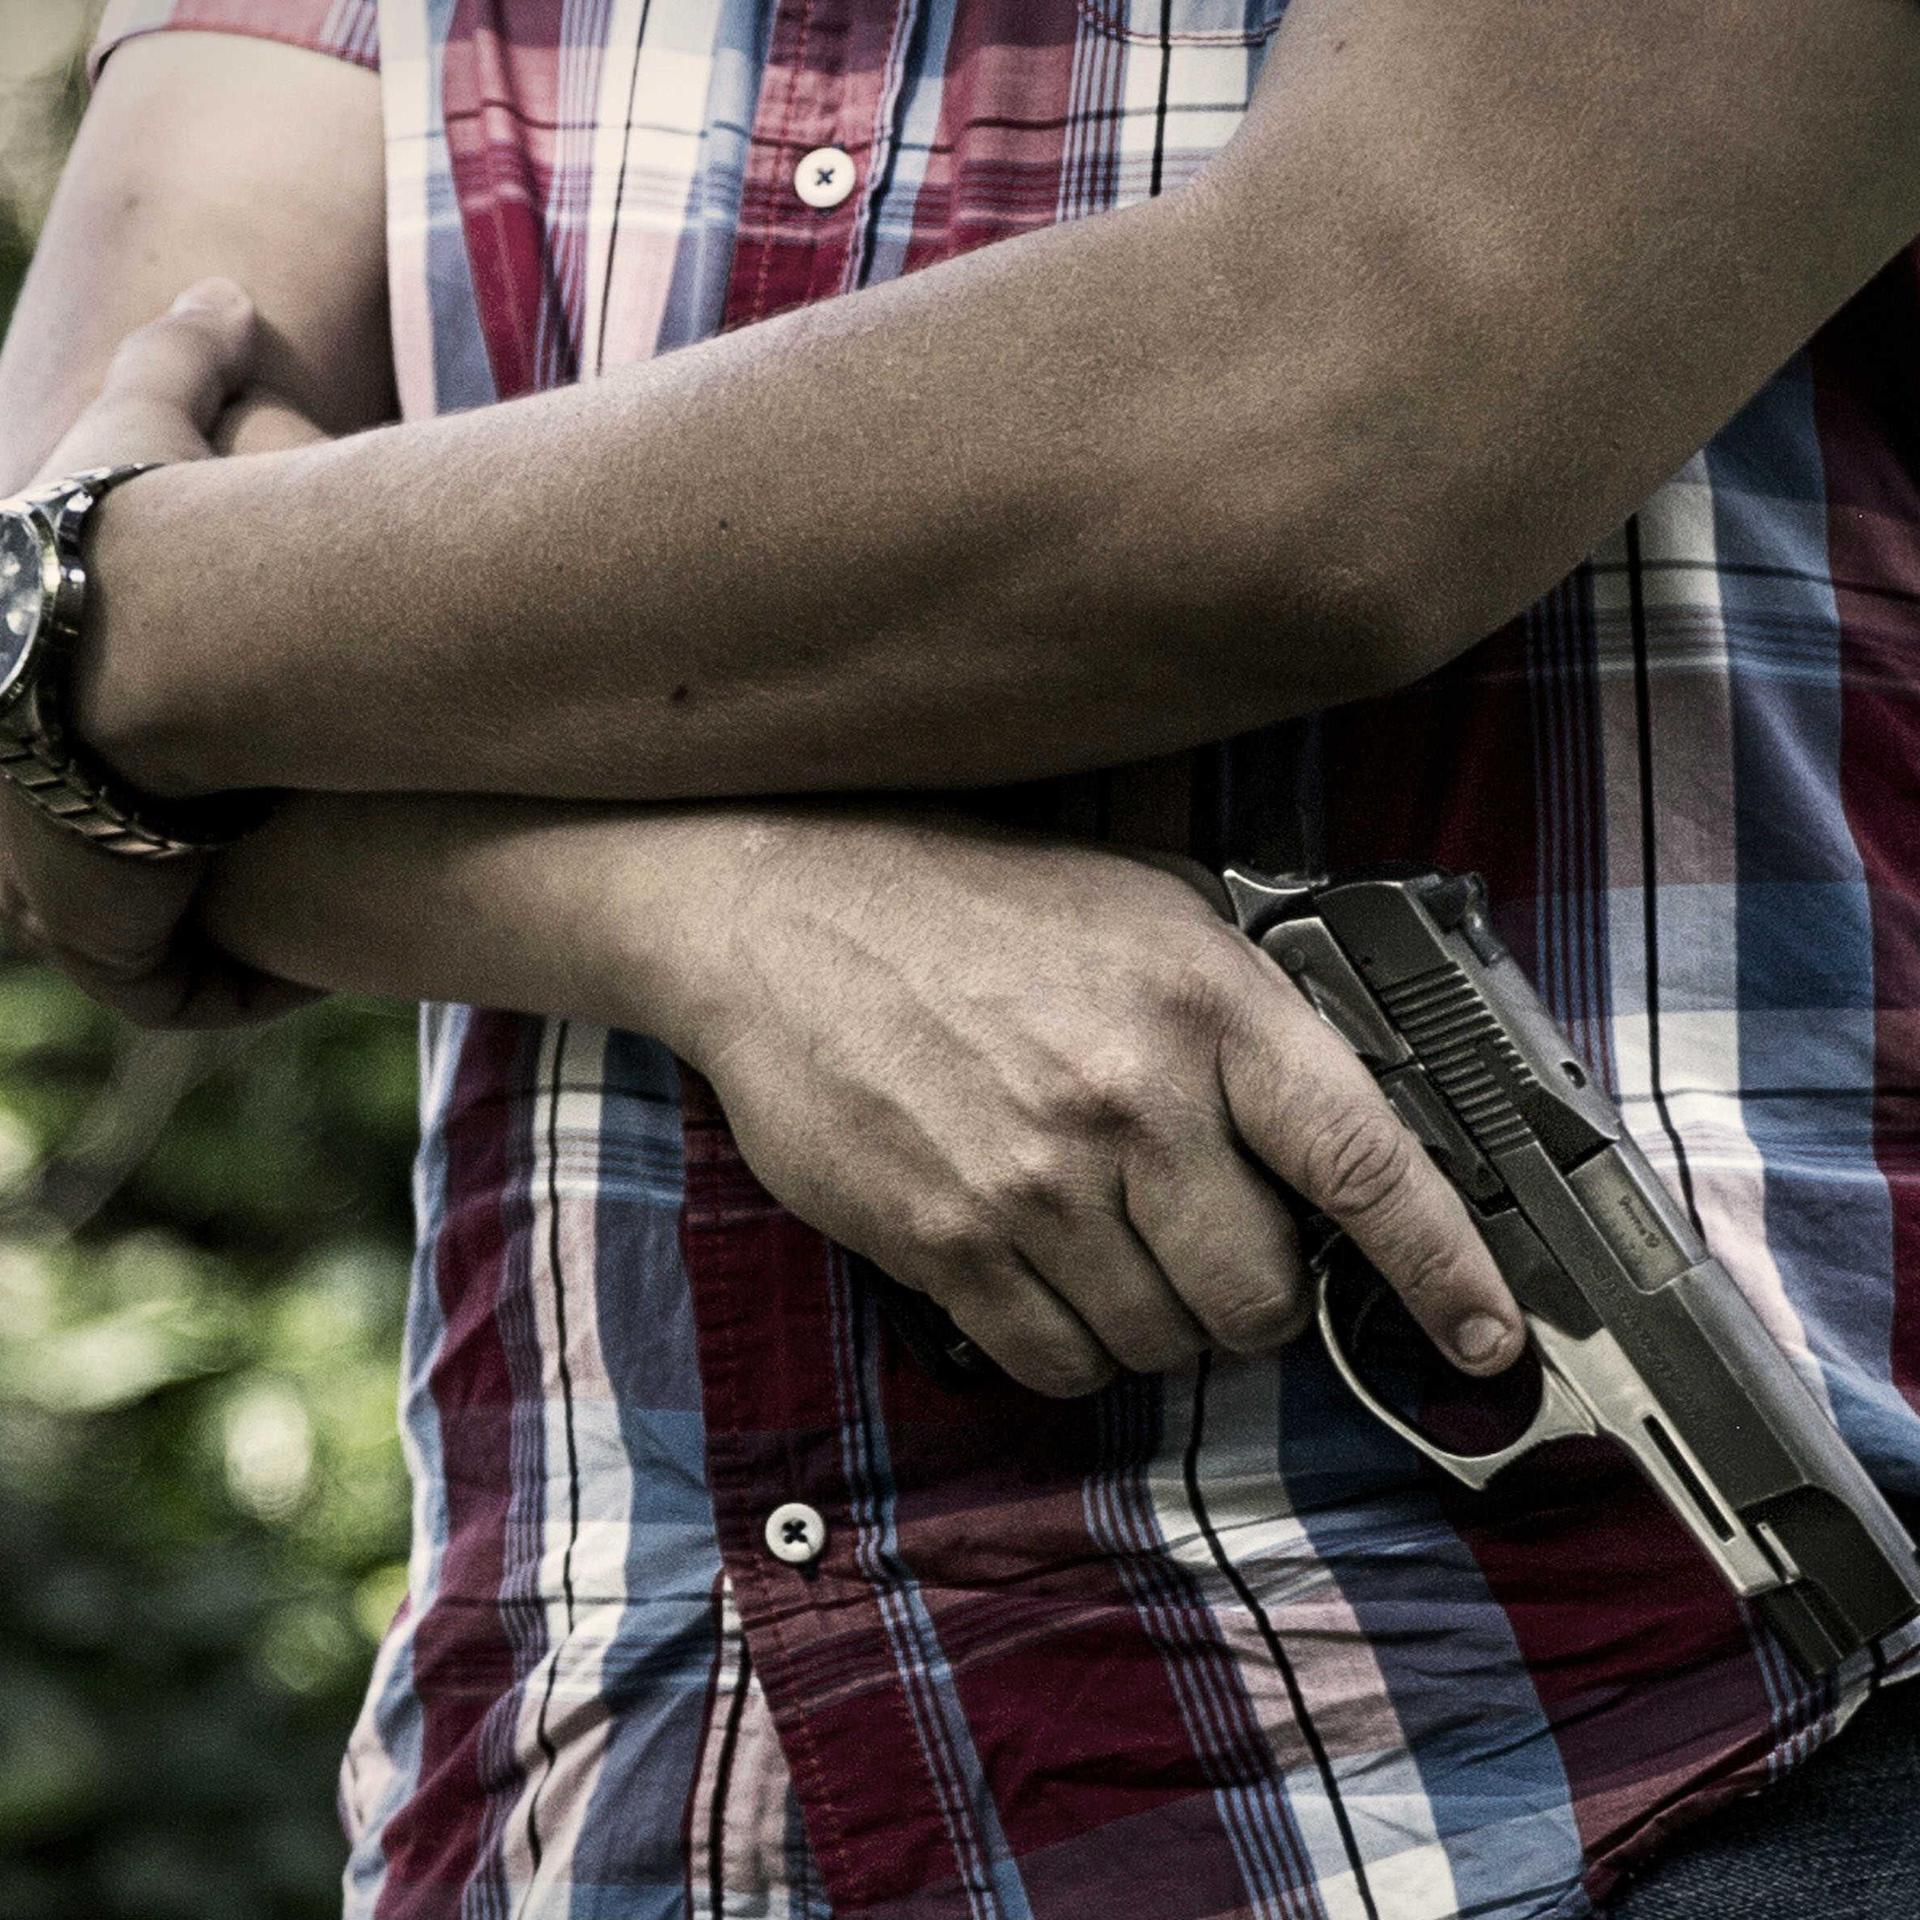pistol: (1218, 849, 1920, 1676)
